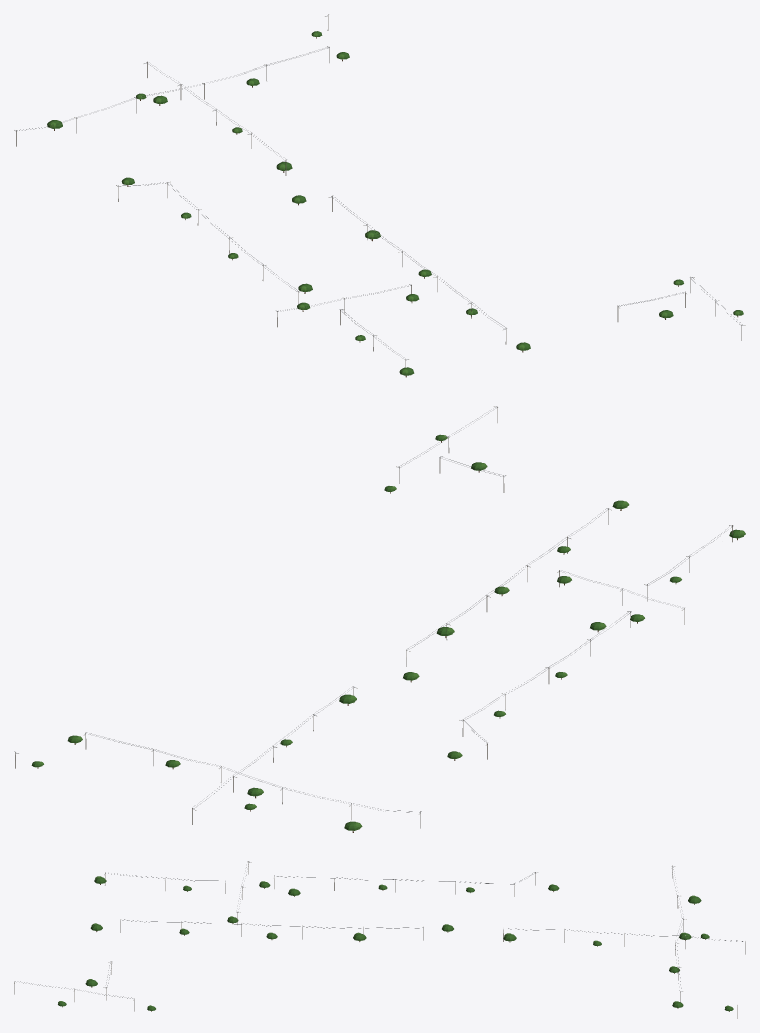
Rendered from n1_poles_4.glb.
3 views of the same model, one above another, from view 1: azimuth 30°, elevation 25°; view 2: azimuth 150°, elevation 25°; view 3: azimuth 270°, elevation 25° (orthographic). The views are drawn at different scales.
Parts seen in each view (by area): view 1: n1_poles_4_lod0; view 2: n1_poles_4_lod0; view 3: n1_poles_4_lod0.
Boxes of the visible parts, x1,y1,x2,y2 form: n1_poles_4_lod0: (14,14,745,377); n1_poles_4_lod0: (14,406,745,832); n1_poles_4_lod0: (14,861,745,1018).
Size of what is drawn, in the model's own units: 213 by 23.66 by 459.
